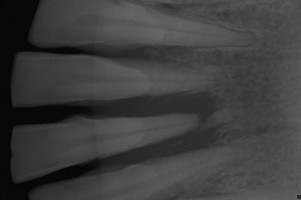Dental Caries: (97, 91, 222, 170)
